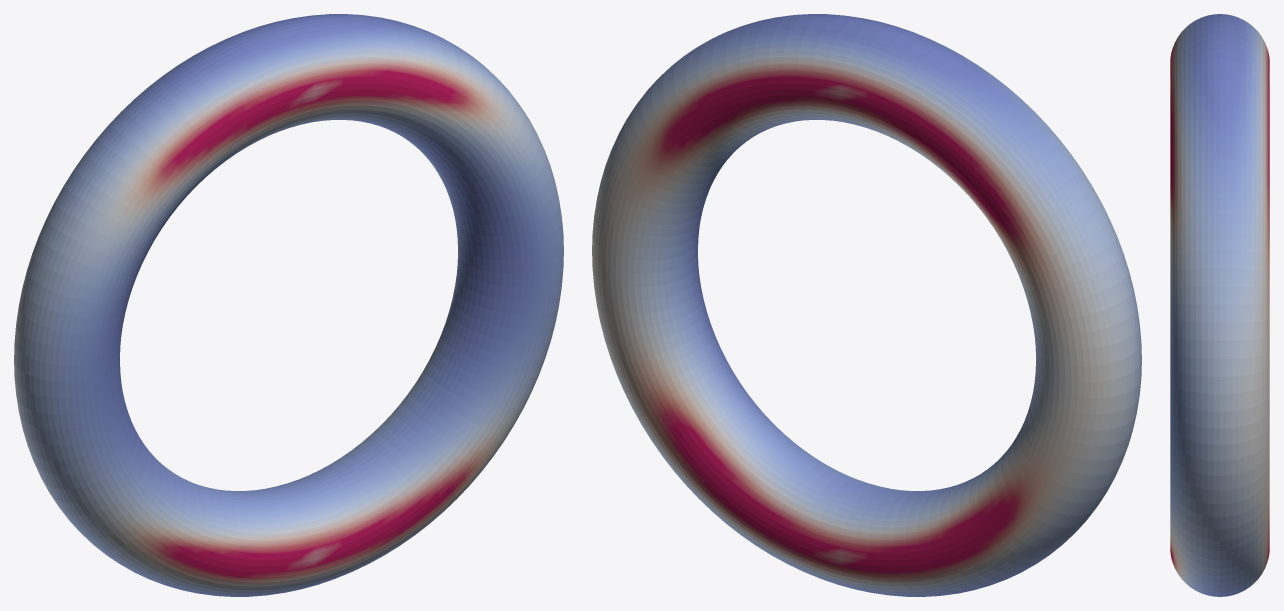
3 views of the same model, side by side, from view 1: azimuth 30°, elevation 25°; view 2: azimuth 150°, elevation 25°; view 3: azimuth 270°, elevation 25° (orthographic). The views are drawn at different scales.
Visible parts, largest first — view 1: world; view 2: world; view 3: world.
Part boxes in pixels (x1,y1,x2,y2): world: (14,14,563,596); world: (592,14,1141,596); world: (1170,14,1269,596).
Size of the model in its own units: 24.13 by 24.13 by 4.13.
